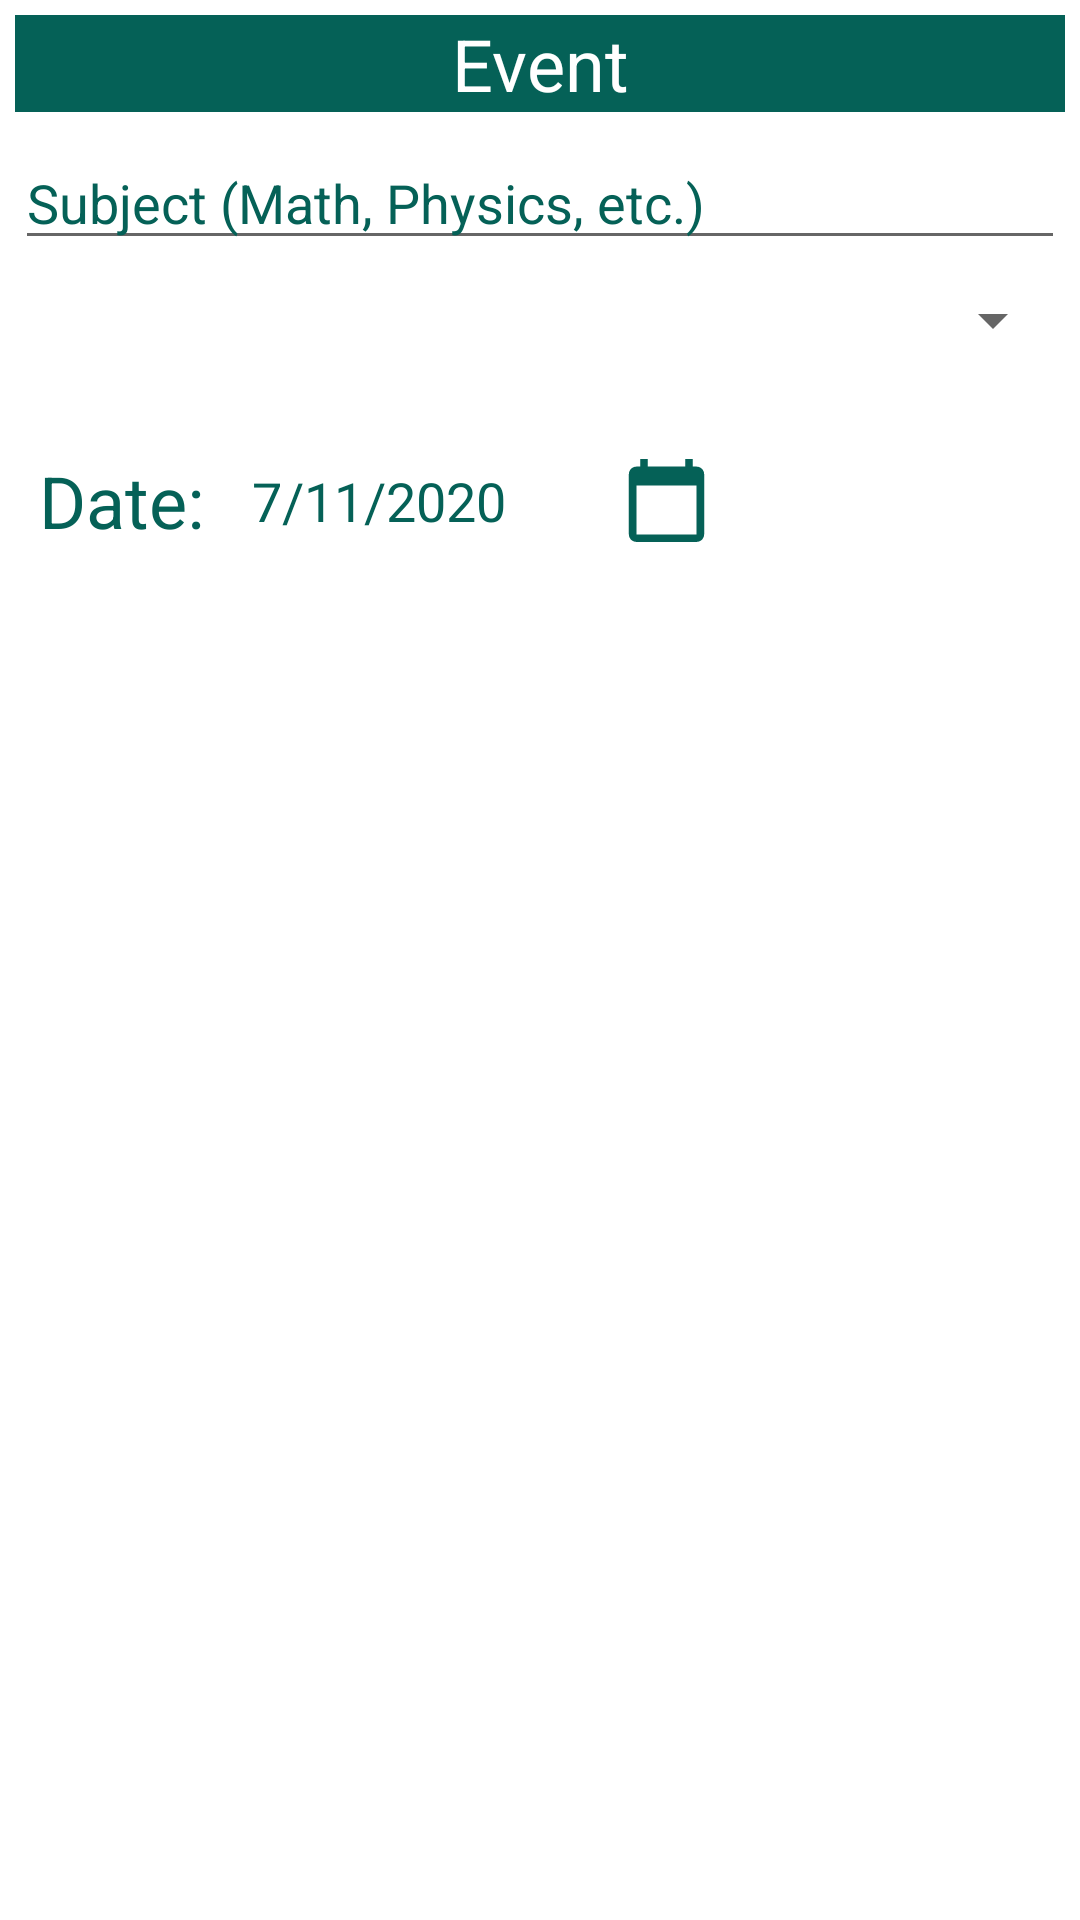

Locate icon controls on the screen. Image size 1080px x 1920px, boxes as (x1, y1, x2, y2).
calendar: (628, 459, 705, 542)
